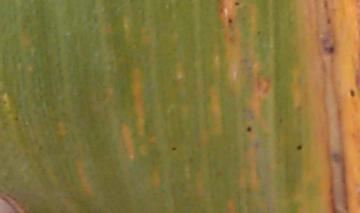tarspot: (327, 47, 336, 55), (349, 89, 356, 97), (246, 125, 252, 134), (296, 143, 302, 151), (172, 146, 177, 153), (227, 18, 233, 23), (234, 1, 240, 6)
